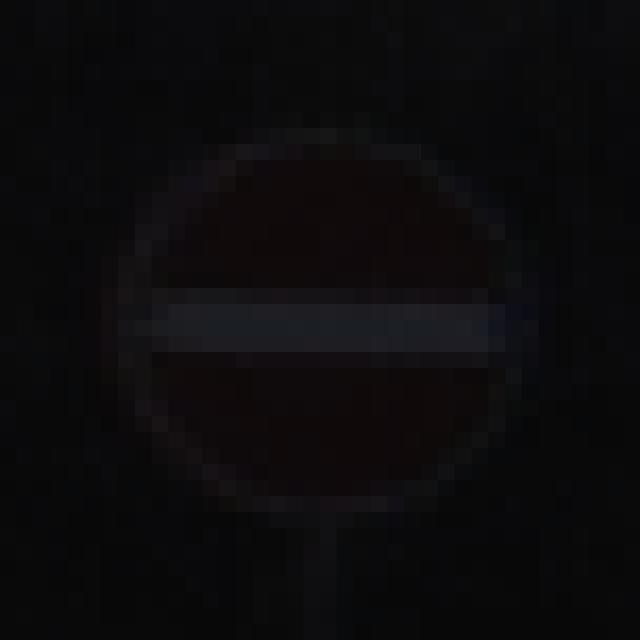No Entry: (85, 97, 557, 561)
